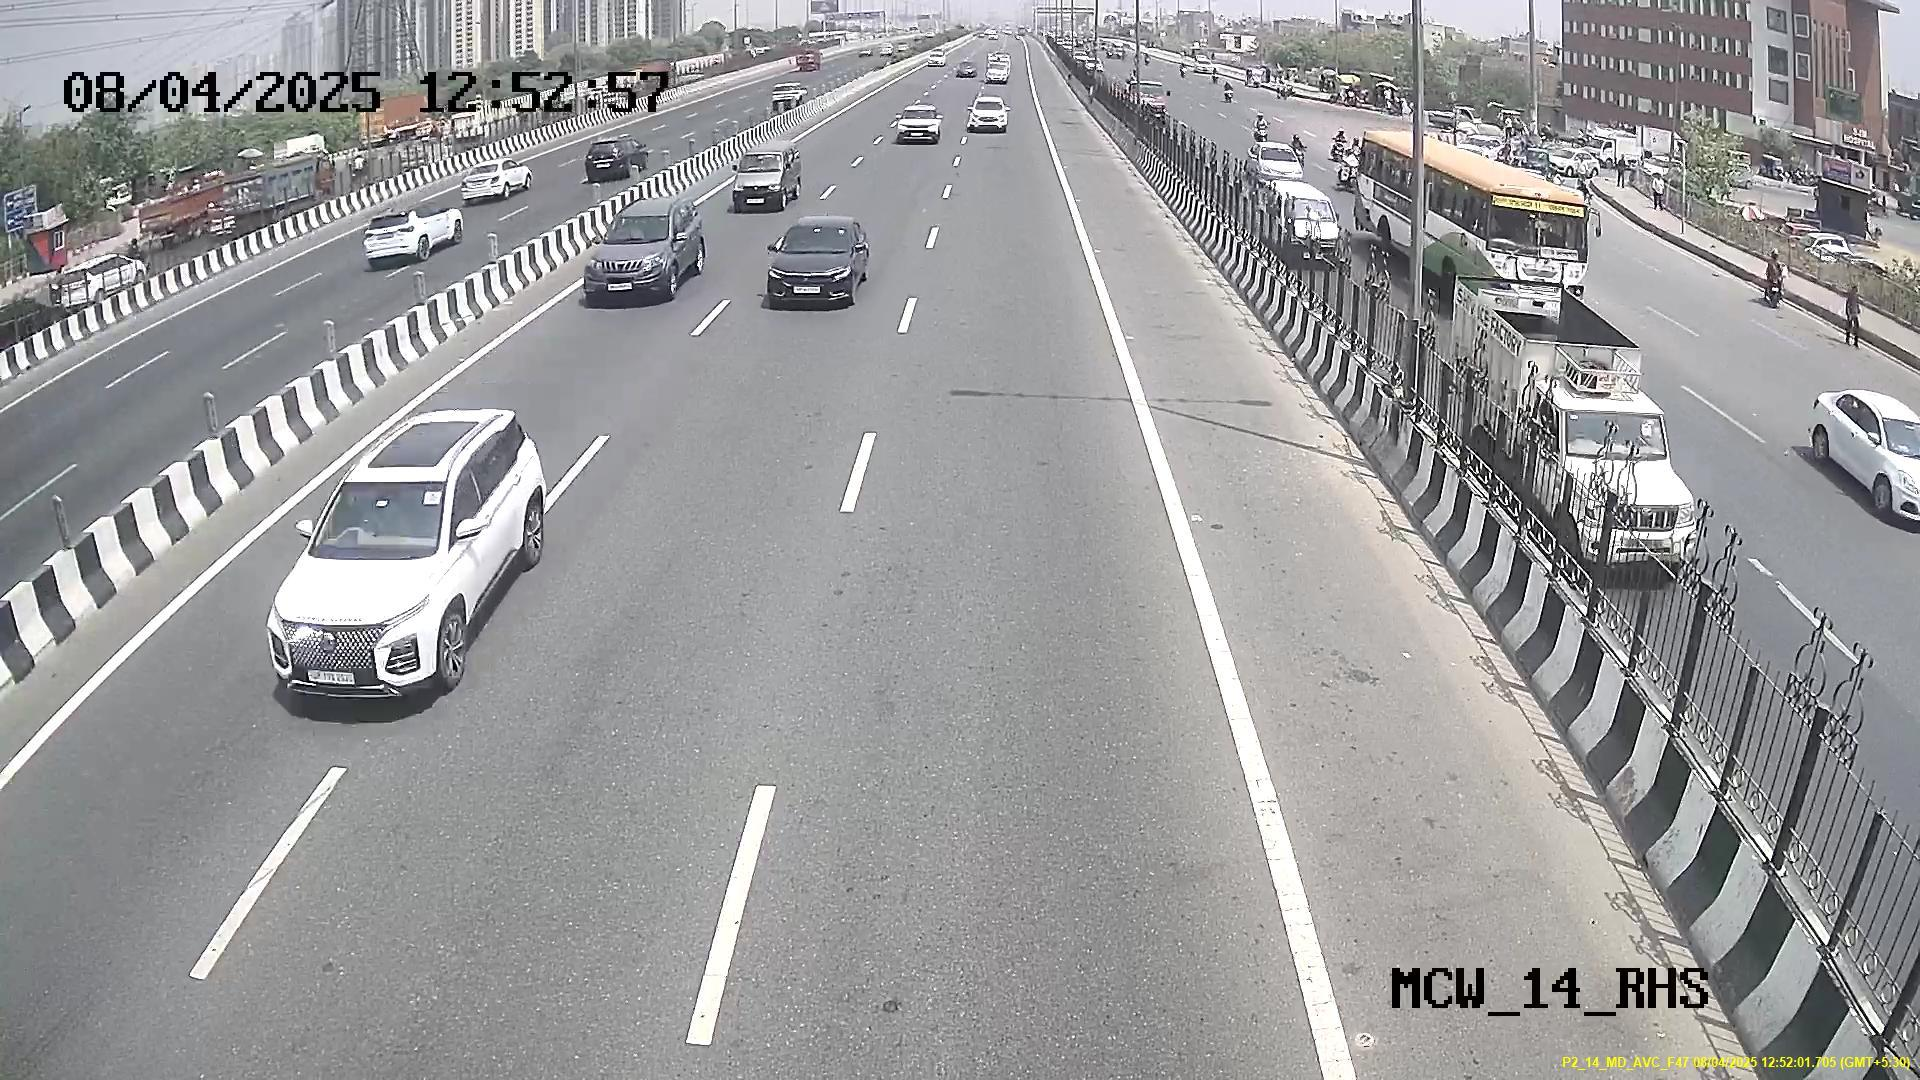car: (269, 450, 487, 705), (583, 203, 686, 309), (764, 219, 858, 309), (728, 140, 803, 207), (897, 99, 944, 150), (964, 99, 1013, 138)
